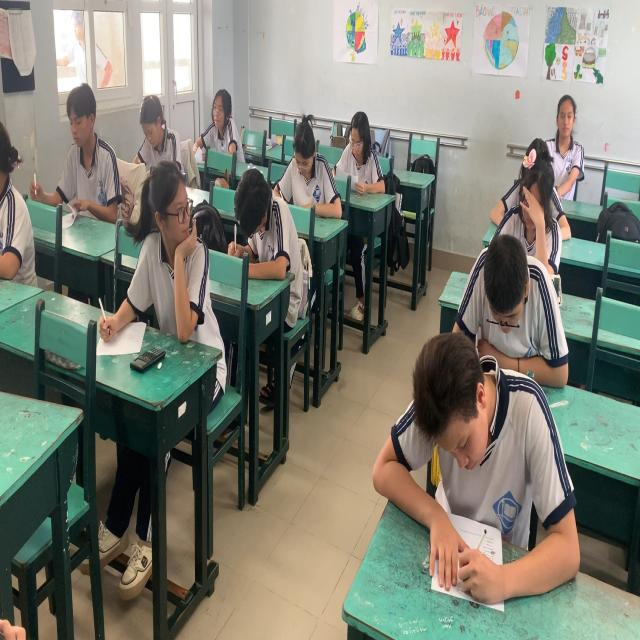cheating: (110, 147, 236, 395)
not_cheating: (404, 321, 543, 523), (45, 72, 118, 220), (472, 223, 546, 351), (232, 165, 306, 291), (126, 66, 183, 174), (284, 105, 337, 208), (508, 153, 558, 254), (546, 72, 590, 171), (342, 93, 381, 196), (205, 83, 242, 155)
